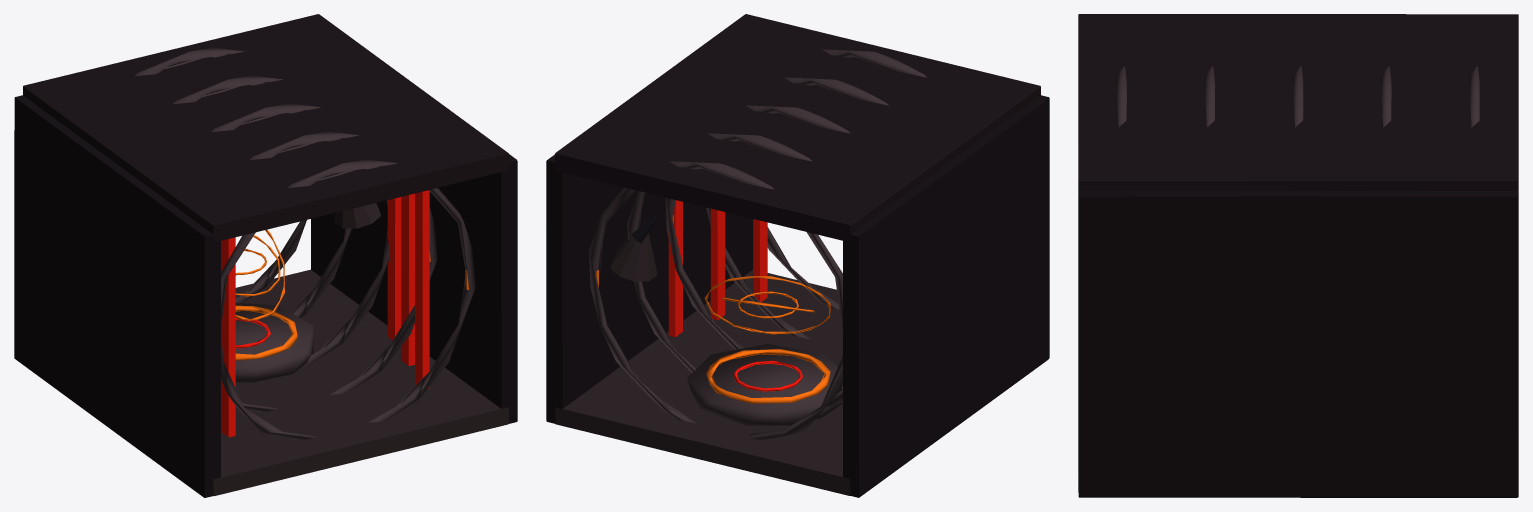
The model's file is dragon_ball_chamber.obj.
The picture shows the model from 3 angles, left to right: view 1: azimuth 30°, elevation 25°; view 2: azimuth 150°, elevation 25°; view 3: azimuth 270°, elevation 25°; orthographic projection. The views are drawn at different scales.
Visible parts, largest first — view 1: DragonBallChamber_Ceiling, DragonBallChamber_Wall_L, DragonBallChamber_Floor, DragonBallChamber_Wall_R, DragonBallChamber_Arch_4, DragonBallChamber_Altar, DragonBallChamber_Lavafall_1_2, DragonBallChamber_Arch_3, DragonBallChamber_Lavafall_-1_2, DragonBallChamber_Arch_2, DragonBallChamber_Lavafall_1_1, DragonBallChamber_Lavafall_1_0 (+4 smaller); view 2: DragonBallChamber_Ceiling, DragonBallChamber_Wall_L, DragonBallChamber_Floor, DragonBallChamber_Wall_R, DragonBallChamber_Altar, DragonBallChamber_Arch_0, DragonBallChamber_Arch_1, DragonBallChamber_Arch_2, DragonBallChamber_Arch_3, DragonBallChamber_AltarRune, DragonBallChamber_Lavafall_1_1, DragonBallChamber_Arch_4 (+5 smaller); view 3: DragonBallChamber_Wall_R, DragonBallChamber_Ceiling, DragonBallChamber_Arch_2, DragonBallChamber_Arch_1, DragonBallChamber_Arch_0, DragonBallChamber_Arch_4, DragonBallChamber_Arch_3.
Boxes of the visible parts, box(x1,y1,x2,y2) form: DragonBallChamber_Ceiling: box(23, 14, 508, 242); DragonBallChamber_Wall_L: box(14, 95, 220, 497); DragonBallChamber_Floor: box(213, 269, 508, 496); DragonBallChamber_Wall_R: box(311, 154, 517, 425); DragonBallChamber_Arch_4: box(221, 159, 475, 440); DragonBallChamber_Altar: box(235, 303, 313, 382); DragonBallChamber_Lavafall_1_2: box(415, 190, 429, 388); DragonBallChamber_Arch_3: box(235, 131, 437, 412); DragonBallChamber_Lavafall_-1_2: box(221, 237, 235, 437); DragonBallChamber_Arch_2: box(211, 103, 389, 365); DragonBallChamber_Lavafall_1_1: box(401, 193, 414, 366); DragonBallChamber_Lavafall_1_0: box(387, 197, 401, 340); DragonBallChamber_Ceiling: box(555, 14, 1040, 241); DragonBallChamber_Wall_L: box(843, 95, 1049, 497); DragonBallChamber_Floor: box(555, 270, 850, 495); DragonBallChamber_Wall_R: box(546, 154, 752, 423); DragonBallChamber_Altar: box(687, 344, 842, 425); DragonBallChamber_Arch_0: box(589, 161, 842, 440); DragonBallChamber_Arch_1: box(627, 133, 842, 406); DragonBallChamber_Arch_2: box(665, 105, 850, 349); DragonBallChamber_Arch_3: box(706, 77, 888, 339); DragonBallChamber_AltarRune: box(706, 349, 830, 403); DragonBallChamber_Lavafall_1_1: box(710, 208, 725, 320); DragonBallChamber_Arch_4: box(767, 49, 926, 309); DragonBallChamber_Wall_R: box(1078, 191, 1518, 497); DragonBallChamber_Ceiling: box(1078, 14, 1518, 199); DragonBallChamber_Arch_2: box(1292, 66, 1303, 127); DragonBallChamber_Arch_1: box(1381, 66, 1391, 127); DragonBallChamber_Arch_0: box(1469, 66, 1479, 127); DragonBallChamber_Arch_4: box(1116, 66, 1126, 126); DragonBallChamber_Arch_3: box(1204, 66, 1215, 126).
Size of the model in its own units: 110 by 94.82 by 116.
